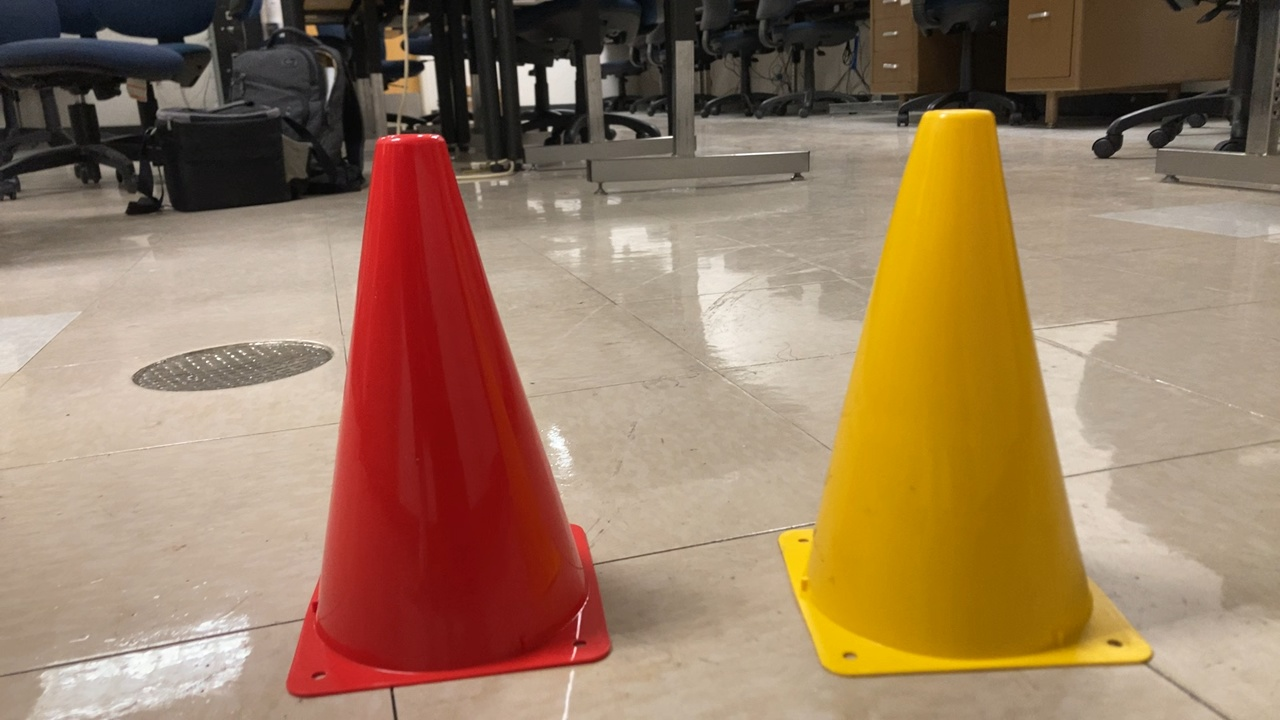red_cone: (284, 129, 622, 697)
yellow_cone: (752, 107, 1170, 678)
